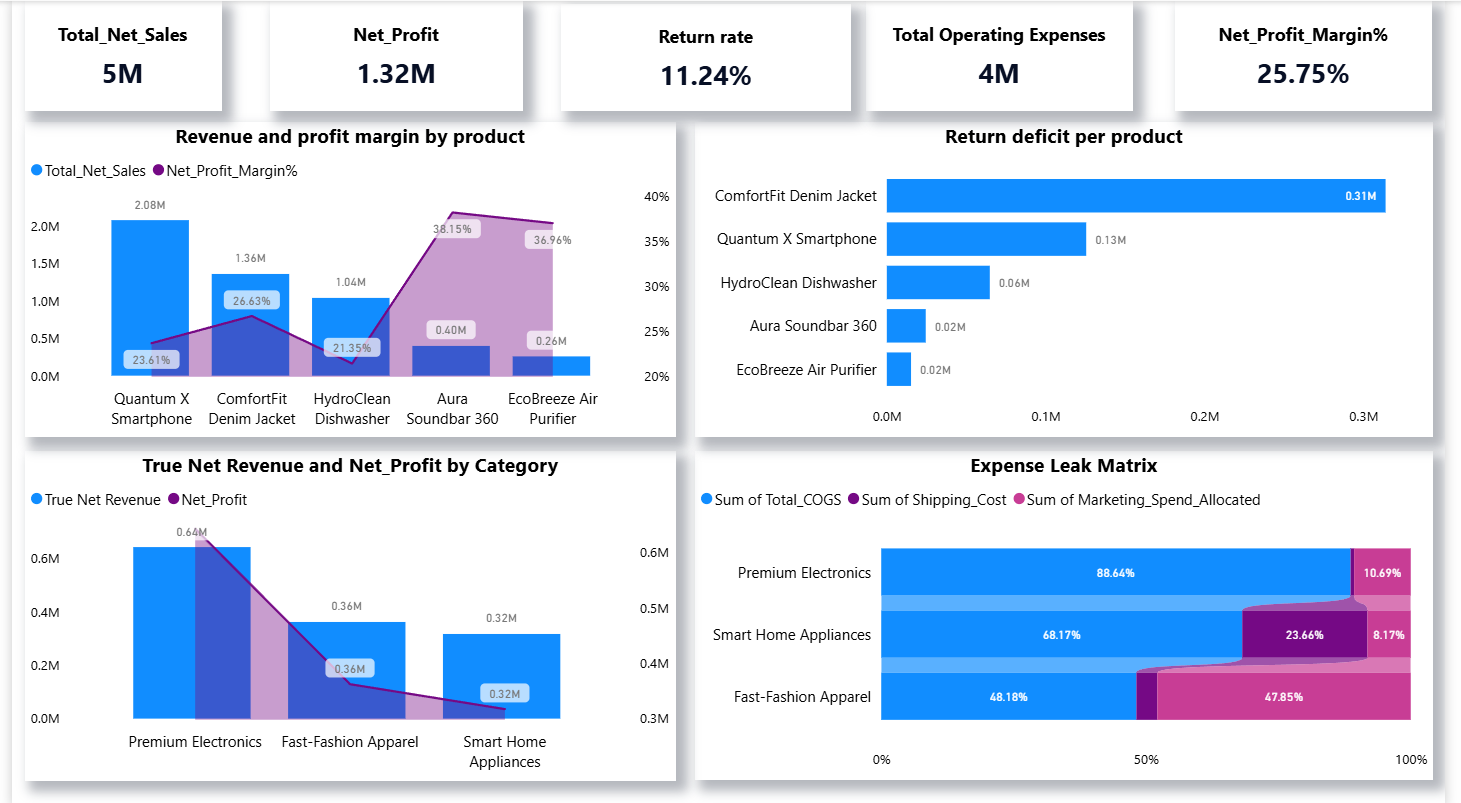

This screenshot's page, from the dashboard's own definition file:
{"tool":"powerbi","page":{"name":"Page 1","canvas":[1280,720],"ordinal":0},"visuals":[{"type":"cardVisual","fields":{"Data":["Measures (2).Total_Net_Sales"]},"box":[11,0,175.6,98.8],"z":0},{"type":"cardVisual","fields":{"Data":["Measures (2).Net_Profit"]},"box":[230.5,0,226.4,98.8],"z":1},{"type":"cardVisual","fields":{"Data":["Measures (2).Total Operating Expenses"]},"box":[763,0,238.8,98.8],"z":2},{"type":"lineClusteredColumnComboChart","title":"Revenue and profit margin by product","fields":{"Category":["omnistore_profitability_paradox_analysis.Product_Name"],"Y":["Measures (2).Total_Net_Sales"],"Y2":["Measures (2).Net_Profit_Margin%"]},"box":[11,108.4,581.8,281.3],"z":3},{"type":"hundredPercentStackedBarChart","title":"Expense Leak Matrix","fields":{"Category":["omnistore_profitability_paradox_analysis.Category"],"Y":["Sum(omnistore_profitability_paradox_analysis.Total_COGS)","Sum(omnistore_profitability_paradox_analysis.Shipping_Cost)","Sum(omnistore_profitability_paradox_analysis.Marketing_Spend_Allocated)"]},"box":[609.3,402.1,660,293.7],"z":4},{"type":"clusteredBarChart","title":"Return deficit per product","fields":{"Category":["omnistore_profitability_paradox_analysis.Product_Name"],"Y":["Sum(omnistore_profitability_paradox_analysis.Return_Deficit)"]},"box":[609.3,108.4,660,281.3],"z":5},{"type":"lineClusteredColumnComboChart","fields":{"Category":["omnistore_profitability_paradox_analysis.Category"],"Y":["Measures (2).True Net Revenue"],"Y2":["Measures (2).Net_Profit"]},"box":[11,402,582,294],"z":6},{"type":"cardVisual","fields":{"Data":["Measures (2).Net_Profit_Margin%"]},"box":[1038.8,0,230.5,98.8],"z":7},{"type":"cardVisual","fields":{"Data":["Measures (2).Return rate"]},"box":[489.9,2.7,259.3,96.1],"z":8}]}

Visuals, with their boxes in screenshot pixels (x1, y1, x2, y2), scaled from the page's 1280x720 canvas onto the 1461x803 screenshot:
cardVisual - Measures (2).Total_Net_Sales: bbox=(13, 0, 213, 110)
cardVisual - Measures (2).Net_Profit: bbox=(263, 0, 522, 110)
cardVisual - Measures (2).Total Operating Expenses: bbox=(871, 0, 1143, 110)
"Revenue and profit margin by product" lineClusteredColumnComboChart: bbox=(13, 121, 677, 435)
"Expense Leak Matrix" hundredPercentStackedBarChart: bbox=(695, 448, 1449, 776)
"Return deficit per product" clusteredBarChart: bbox=(695, 121, 1449, 435)
lineClusteredColumnComboChart - omnistore_profitability_paradox_analysis.Category x Measures (2).True Net Revenue: bbox=(13, 448, 677, 776)
cardVisual - Measures (2).Net_Profit_Margin%: bbox=(1186, 0, 1449, 110)
cardVisual - Measures (2).Return rate: bbox=(559, 3, 855, 110)
